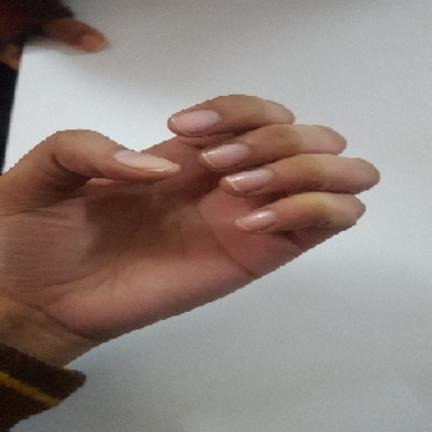Nail: (113, 149, 180, 172), (171, 108, 219, 135), (202, 143, 250, 169), (226, 169, 273, 194), (235, 210, 278, 230)
